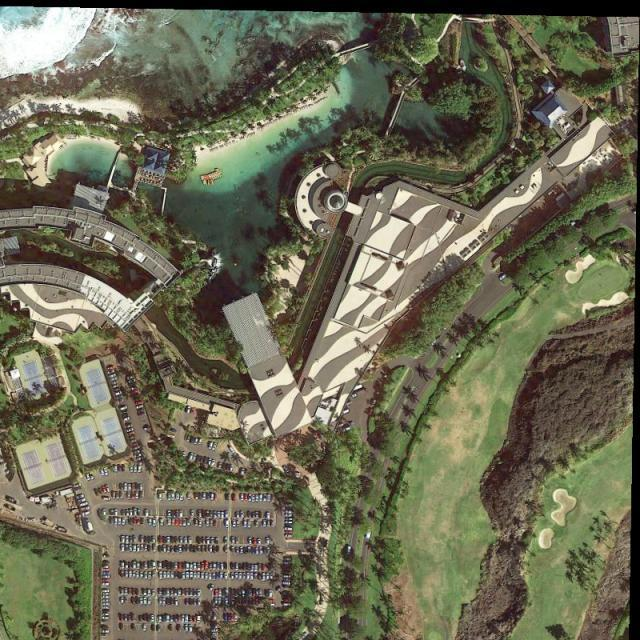vehicle: (353, 389, 366, 398), (353, 383, 364, 393), (87, 519, 94, 532), (6, 503, 16, 511), (366, 526, 372, 538), (499, 274, 508, 282), (340, 410, 350, 417), (229, 446, 237, 454), (430, 338, 438, 346), (440, 325, 448, 333), (129, 378, 138, 385), (57, 526, 66, 533), (81, 505, 90, 512), (343, 426, 352, 433), (126, 375, 136, 381), (94, 489, 101, 497), (371, 399, 378, 407), (131, 385, 140, 391), (8, 498, 17, 504), (78, 498, 87, 504), (212, 442, 218, 451), (188, 453, 194, 462), (211, 459, 217, 468), (133, 516, 138, 526), (98, 488, 105, 495), (100, 468, 106, 476), (170, 428, 178, 434), (368, 408, 374, 416), (119, 623, 124, 632), (107, 366, 116, 371), (120, 406, 129, 411), (76, 494, 85, 499), (196, 455, 201, 464), (203, 456, 208, 465), (133, 535, 138, 544), (347, 546, 352, 555), (225, 511, 230, 520), (241, 511, 246, 520), (171, 492, 176, 501), (187, 492, 192, 501), (117, 395, 124, 401), (192, 454, 198, 461), (102, 487, 108, 494), (347, 401, 354, 407), (240, 469, 246, 476), (152, 545, 158, 552), (170, 598, 175, 606), (147, 598, 152, 606), (143, 598, 148, 606), (108, 370, 116, 375), (110, 377, 118, 382), (114, 387, 122, 392), (126, 424, 134, 429), (138, 409, 146, 414), (136, 401, 144, 406), (132, 390, 140, 395), (186, 406, 191, 414), (190, 408, 195, 416), (130, 438, 138, 443), (134, 446, 142, 451), (74, 482, 82, 487), (82, 510, 90, 515), (209, 442, 214, 450), (198, 519, 203, 527), (225, 520, 230, 528), (172, 510, 177, 518), (190, 510, 195, 518), (125, 536, 130, 544), (174, 537, 179, 545), (167, 518, 172, 526), (194, 492, 199, 500), (233, 494, 238, 502), (244, 494, 249, 502), (271, 494, 276, 502), (210, 584, 215, 592), (252, 589, 257, 597), (248, 546, 253, 554), (235, 563, 240, 571), (276, 587, 282, 593), (116, 391, 122, 397), (79, 502, 88, 506), (90, 473, 96, 479), (124, 482, 128, 491), (130, 517, 134, 526), (137, 517, 141, 526), (226, 463, 230, 472), (127, 491, 131, 500), (131, 491, 135, 500), (163, 536, 167, 545), (170, 536, 174, 545), (180, 492, 184, 501), (252, 494, 256, 503), (230, 465, 234, 474), (262, 573, 266, 582), (194, 589, 198, 598), (163, 545, 167, 554), (197, 616, 202, 623), (185, 599, 190, 606), (231, 599, 236, 606), (255, 598, 260, 605), (127, 428, 134, 433), (111, 381, 118, 386), (124, 417, 131, 422), (132, 442, 139, 447), (133, 509, 138, 516), (136, 484, 141, 491), (194, 438, 199, 445), (198, 439, 203, 446), (199, 456, 204, 463), (186, 519, 191, 526), (140, 536, 145, 543), (152, 537, 157, 544), (160, 519, 165, 526), (255, 512, 260, 519), (266, 513, 271, 520), (265, 590, 270, 597), (231, 563, 236, 570), (102, 613, 110, 617), (102, 626, 110, 630), (102, 582, 110, 586), (102, 578, 110, 582), (103, 562, 111, 566), (190, 625, 194, 633), (185, 625, 189, 633), (143, 624, 147, 632), (211, 633, 219, 637), (175, 598, 179, 606), (222, 598, 226, 606), (226, 598, 230, 606), (239, 598, 243, 606), (162, 598, 166, 606), (166, 598, 170, 606), (151, 614, 155, 622), (182, 615, 186, 623), (214, 613, 218, 621), (224, 614, 228, 622), (158, 615, 162, 623), (143, 614, 147, 622), (133, 614, 137, 622), (120, 614, 124, 622), (125, 588, 129, 596), (144, 426, 152, 430), (130, 465, 134, 473), (105, 467, 109, 475), (122, 518, 126, 526), (110, 518, 114, 526), (114, 518, 118, 526), (118, 518, 122, 526), (149, 518, 153, 526), (128, 483, 132, 491), (134, 454, 142, 458), (218, 462, 222, 470), (222, 462, 226, 470), (106, 486, 110, 494), (103, 497, 111, 501), (120, 491, 124, 499), (170, 589, 174, 597), (285, 530, 293, 534), (206, 519, 210, 527), (248, 521, 252, 529), (286, 534, 294, 538), (285, 527, 293, 531), (286, 510, 294, 514), (180, 510, 184, 518), (198, 510, 202, 518), (202, 510, 206, 518), (206, 510, 210, 518), (258, 538, 262, 546), (254, 538, 258, 546), (122, 536, 126, 544), (145, 536, 149, 544), (167, 537, 171, 545), (176, 518, 180, 526), (172, 518, 176, 526), (176, 492, 180, 500), (199, 492, 203, 500), (210, 493, 214, 501), (268, 494, 272, 502), (266, 538, 270, 546), (174, 571, 178, 579), (178, 572, 182, 580), (186, 572, 190, 580), (163, 572, 167, 580), (246, 573, 250, 581), (250, 573, 254, 581), (266, 573, 270, 581), (262, 564, 266, 572), (258, 564, 262, 572), (285, 558, 293, 562), (159, 572, 163, 580), (186, 589, 190, 597), (242, 590, 246, 598), (215, 590, 219, 598), (218, 590, 222, 598), (222, 590, 226, 598), (283, 582, 291, 586), (132, 571, 136, 579), (148, 572, 152, 580), (125, 562, 129, 570), (256, 547, 260, 555), (137, 545, 141, 553), (158, 545, 162, 553), (167, 546, 171, 554), (178, 545, 182, 553), (122, 544, 126, 552), (217, 546, 221, 554), (225, 546, 229, 554), (129, 562, 133, 570), (133, 562, 137, 570), (145, 562, 149, 570), (149, 562, 153, 570), (153, 562, 157, 570), (158, 562, 162, 570), (162, 562, 166, 570), (167, 562, 171, 570), (183, 562, 187, 570), (258, 572, 262, 580), (248, 563, 252, 571), (114, 384, 120, 389), (119, 398, 125, 403), (129, 432, 135, 437), (130, 435, 136, 440), (140, 413, 146, 418), (190, 438, 195, 444), (248, 512, 253, 518), (238, 574, 243, 580), (103, 602, 110, 606), (103, 610, 110, 614), (103, 630, 110, 634), (103, 571, 110, 575), (103, 566, 110, 570), (103, 554, 110, 558), (178, 625, 182, 632), (158, 626, 162, 633), (132, 623, 136, 630), (249, 598, 253, 605), (190, 599, 194, 606), (197, 599, 201, 606), (215, 598, 219, 605), (235, 599, 239, 606), (129, 588, 133, 595), (133, 588, 137, 595), (143, 590, 147, 597), (158, 589, 162, 596), (178, 616, 182, 623), (174, 615, 178, 622), (170, 615, 174, 622), (139, 615, 143, 622), (121, 588, 125, 595), (136, 598, 140, 605), (110, 374, 117, 378), (122, 414, 129, 418), (134, 466, 138, 473), (137, 405, 144, 409), (135, 398, 142, 402), (138, 466, 142, 473), (122, 465, 126, 472), (134, 450, 141, 454), (120, 483, 124, 490), (132, 484, 136, 491), (153, 519, 157, 526), (182, 452, 186, 459), (187, 435, 191, 442), (116, 492, 120, 499), (210, 519, 214, 526), (243, 521, 247, 528), (263, 520, 267, 527), (267, 520, 271, 527), (271, 520, 275, 527), (183, 519, 187, 526), (286, 514, 293, 518), (167, 510, 171, 517), (210, 511, 214, 518), (249, 538, 253, 545), (231, 537, 235, 544), (189, 537, 193, 544), (197, 537, 201, 544), (206, 537, 210, 544), (222, 512, 226, 519), (236, 512, 240, 519), (206, 493, 210, 500), (214, 494, 218, 501), (226, 494, 230, 501), (256, 495, 260, 502), (264, 495, 268, 502), (260, 547, 264, 554), (174, 589, 178, 596), (182, 573, 186, 580), (190, 573, 194, 580), (209, 574, 213, 581), (216, 573, 220, 580), (220, 573, 224, 580), (243, 573, 247, 580), (254, 573, 258, 580), (270, 574, 274, 581), (284, 578, 291, 582), (182, 590, 186, 597), (190, 590, 194, 597), (256, 590, 260, 597), (249, 590, 253, 597), (152, 572, 156, 579), (232, 590, 236, 597), (125, 571, 129, 578), (129, 571, 133, 578), (144, 572, 148, 579), (186, 545, 190, 552), (130, 545, 134, 552), (190, 545, 194, 552), (210, 546, 214, 553), (240, 547, 244, 554), (244, 547, 248, 554), (126, 545, 130, 552), (254, 565, 258, 572), (190, 564, 194, 571), (141, 563, 145, 570), (171, 563, 175, 570), (186, 564, 190, 571), (194, 564, 198, 571), (198, 564, 202, 571), (202, 564, 206, 571), (210, 563, 214, 570), (217, 563, 221, 570), (283, 603, 292, 606), (140, 483, 143, 492), (136, 490, 139, 499), (206, 572, 209, 581), (229, 589, 232, 598), (102, 617, 110, 620), (103, 599, 111, 602), (103, 606, 111, 609), (102, 634, 110, 637), (102, 590, 110, 593), (103, 575, 111, 578), (170, 625, 174, 631), (151, 625, 155, 631), (219, 598, 222, 606), (269, 599, 275, 603), (269, 603, 275, 607), (283, 599, 291, 602), (270, 590, 273, 598), (152, 590, 156, 596), (159, 598, 162, 606), (186, 614, 189, 622), (167, 614, 170, 622), (229, 614, 232, 622), (235, 614, 238, 622), (163, 614, 166, 622), (148, 615, 151, 623), (128, 616, 132, 622), (125, 614, 128, 622), (74, 487, 82, 490), (87, 474, 91, 480), (114, 466, 118, 472), (118, 466, 122, 472), (110, 510, 114, 516), (114, 510, 118, 516), (126, 510, 130, 516), (146, 510, 149, 518), (141, 518, 144, 526), (209, 458, 212, 466), (134, 458, 142, 461), (113, 491, 116, 499), (195, 519, 198, 527), (256, 521, 260, 527), (286, 521, 294, 524), (286, 518, 294, 521), (180, 518, 183, 526), (218, 512, 222, 518), (130, 537, 133, 545), (149, 536, 152, 544), (159, 536, 162, 544), (184, 538, 188, 544), (202, 538, 206, 544), (214, 512, 218, 518), (339, 424, 345, 428), (252, 513, 256, 519), (159, 493, 162, 501), (241, 493, 244, 501), (249, 494, 252, 502), (260, 494, 263, 502), (213, 573, 216, 581), (231, 573, 234, 581), (167, 571, 170, 579), (122, 562, 125, 570), (237, 590, 240, 598), (178, 590, 182, 596), (198, 590, 201, 598), (260, 589, 263, 597), (239, 590, 242, 598), (136, 572, 140, 578), (140, 572, 144, 578), (285, 562, 293, 565), (134, 546, 138, 552), (171, 546, 174, 554), (175, 546, 179, 552), (197, 546, 201, 552), (206, 545, 209, 553), (214, 546, 217, 554), (253, 546, 256, 554), (179, 562, 182, 570), (206, 563, 209, 571), (214, 564, 218, 570), (103, 596, 110, 599), (103, 593, 110, 596), (103, 569, 110, 572), (194, 599, 197, 606), (243, 599, 246, 606), (253, 598, 256, 605), (136, 589, 139, 596), (148, 589, 151, 596), (190, 616, 193, 623), (121, 597, 124, 604), (133, 598, 136, 605), (140, 598, 143, 605), (103, 509, 106, 516), (122, 510, 125, 517), (130, 509, 133, 516), (163, 589, 166, 596), (167, 589, 170, 596), (233, 520, 236, 527), (237, 519, 240, 526), (286, 524, 293, 527), (236, 538, 239, 545), (180, 537, 183, 544), (216, 538, 219, 545), (225, 538, 228, 545), (264, 547, 267, 554), (294, 472, 301, 475), (171, 572, 174, 579), (202, 573, 205, 580), (235, 573, 238, 580), (284, 575, 291, 578), (226, 590, 229, 597), (122, 571, 125, 578), (141, 545, 144, 552), (145, 544, 148, 551), (148, 545, 151, 552), (183, 545, 186, 552), (194, 546, 197, 553), (236, 547, 239, 554), (231, 546, 234, 553), (137, 563, 140, 570), (175, 563, 178, 570), (252, 565, 255, 572), (225, 563, 228, 570), (240, 563, 243, 570), (194, 574, 198, 579), (212, 626, 218, 629), (212, 630, 218, 633), (194, 617, 197, 623), (138, 510, 141, 516), (211, 538, 214, 544), (203, 493, 206, 499), (225, 574, 228, 580), (198, 573, 201, 579), (202, 546, 205, 552), (244, 564, 247, 570), (232, 614, 234, 622), (169, 493, 171, 501), (125, 597, 127, 604), (177, 511, 179, 518), (222, 563, 224, 570), (211, 639, 217, 640)
